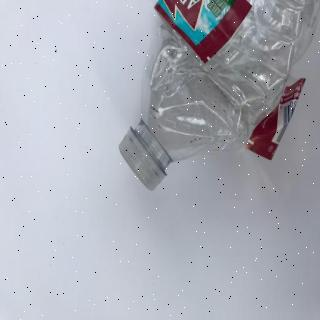Plastic-bottle: (118, 2, 320, 194)
